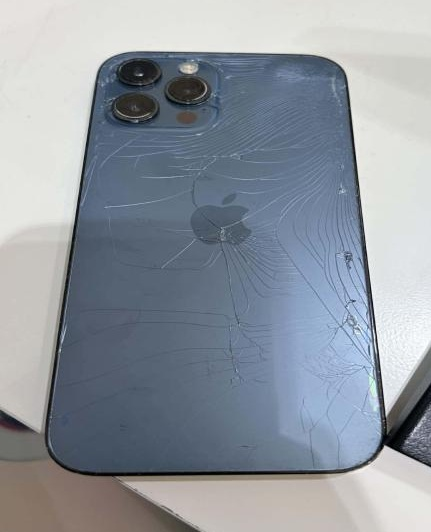physical_damage: (99, 186, 268, 258), (275, 308, 372, 431), (165, 297, 272, 390), (283, 175, 347, 309), (94, 123, 227, 181), (224, 97, 343, 160), (74, 306, 141, 407), (205, 49, 344, 97), (108, 257, 267, 291), (85, 54, 131, 122), (150, 50, 209, 74)
